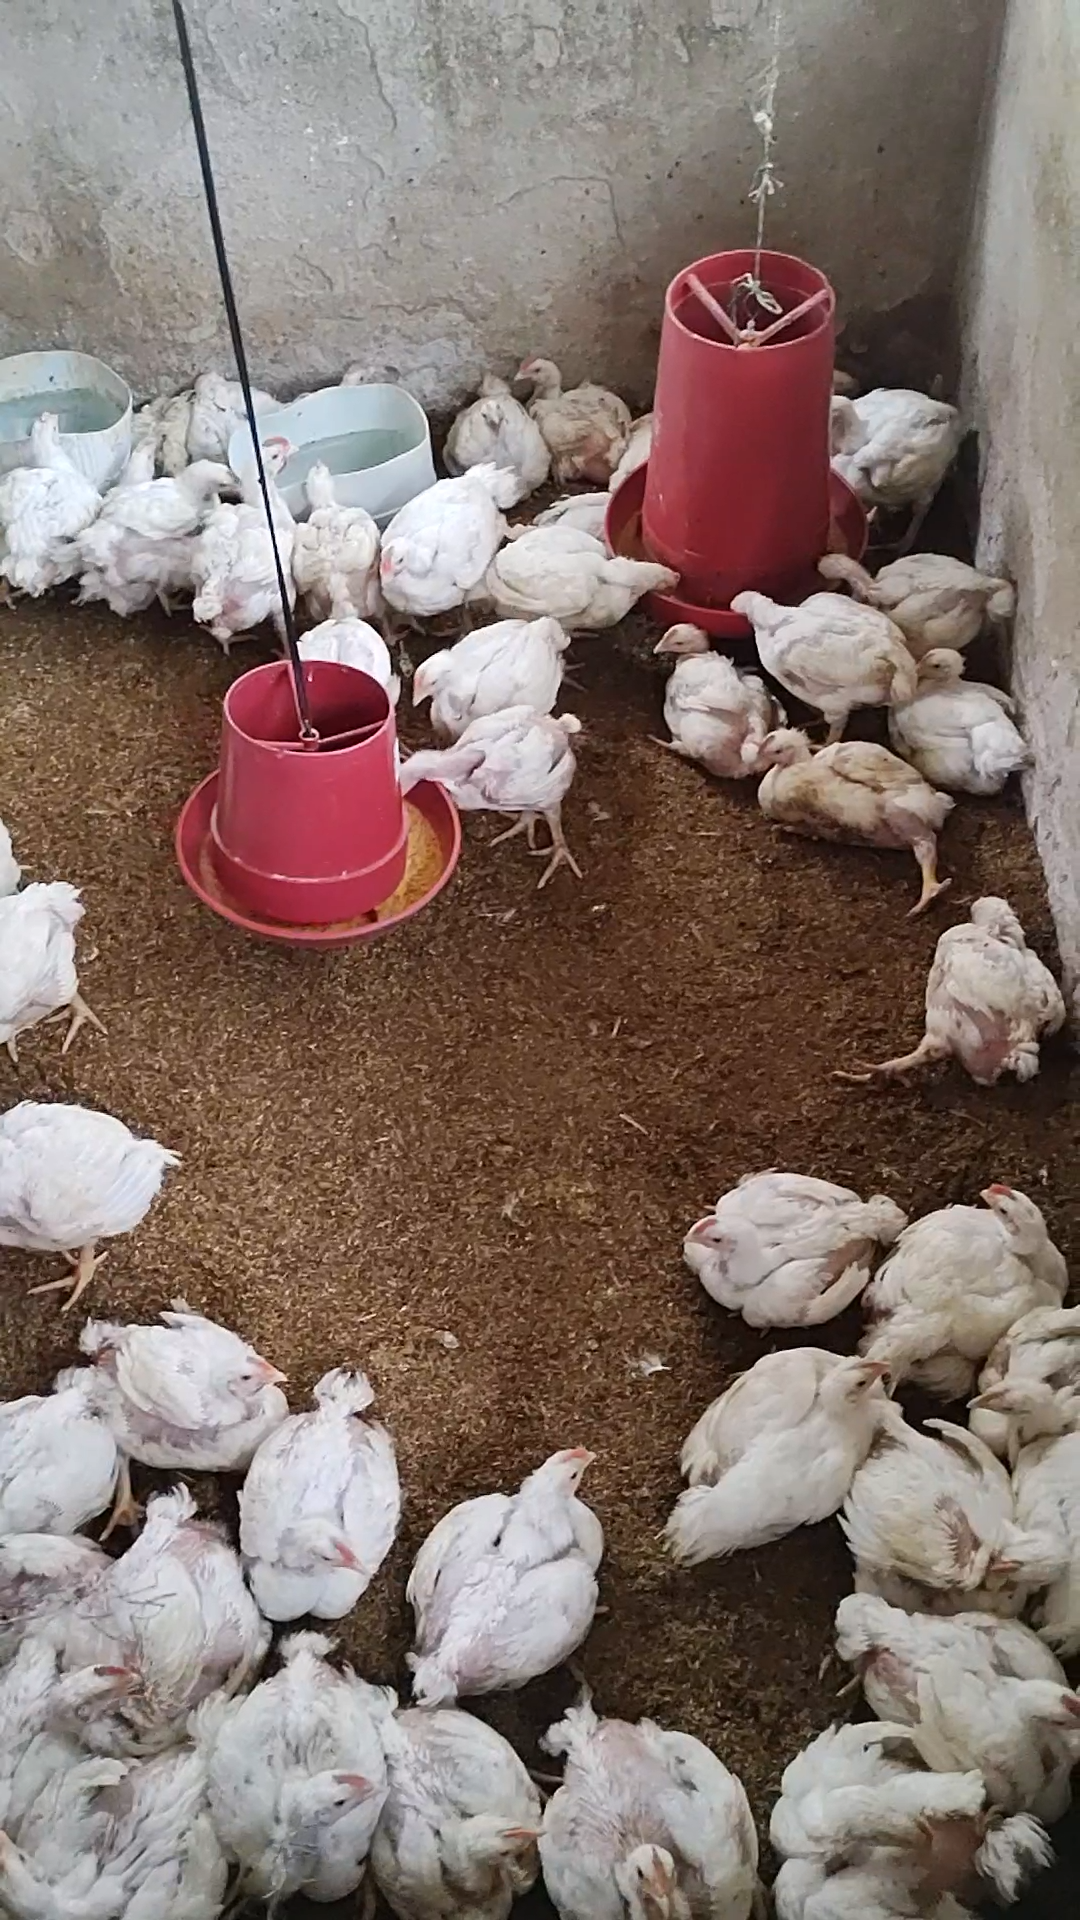Pollos: (645, 1342, 898, 1577), (767, 1710, 1047, 1919), (517, 1685, 764, 1920), (404, 1443, 616, 1702), (833, 1577, 1080, 1799), (65, 1498, 262, 1747), (0, 1726, 245, 1920), (235, 1357, 409, 1627), (840, 1407, 1058, 1621), (678, 1153, 905, 1357), (368, 1665, 546, 1920), (824, 897, 1052, 1091), (223, 1623, 380, 1900), (869, 1174, 1073, 1382), (746, 727, 964, 914), (394, 703, 593, 902), (0, 1098, 191, 1304), (67, 1305, 285, 1484), (727, 578, 923, 738), (71, 460, 245, 613), (477, 522, 680, 653), (824, 377, 977, 543), (633, 613, 785, 781), (193, 429, 305, 651), (815, 539, 1010, 665), (0, 873, 121, 1072), (902, 638, 1040, 810), (378, 458, 512, 632), (0, 402, 102, 607), (409, 613, 568, 736), (0, 1387, 135, 1524), (287, 448, 394, 618), (440, 363, 562, 510), (513, 348, 645, 483)
